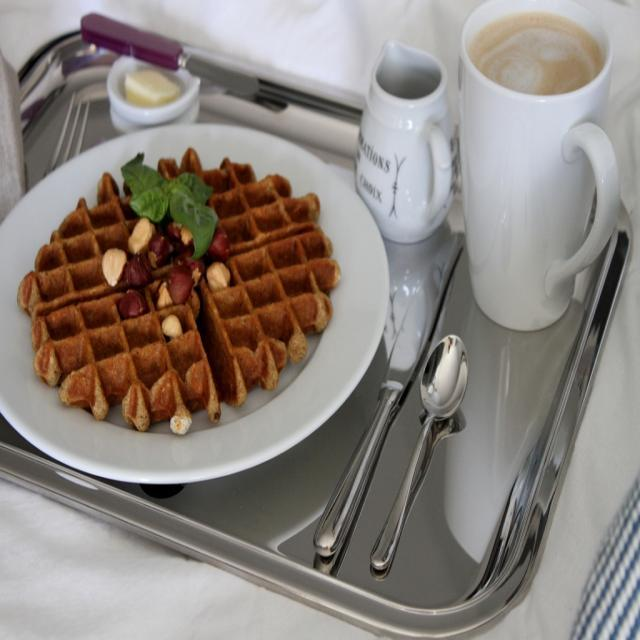Waffle: (16, 149, 340, 434)
